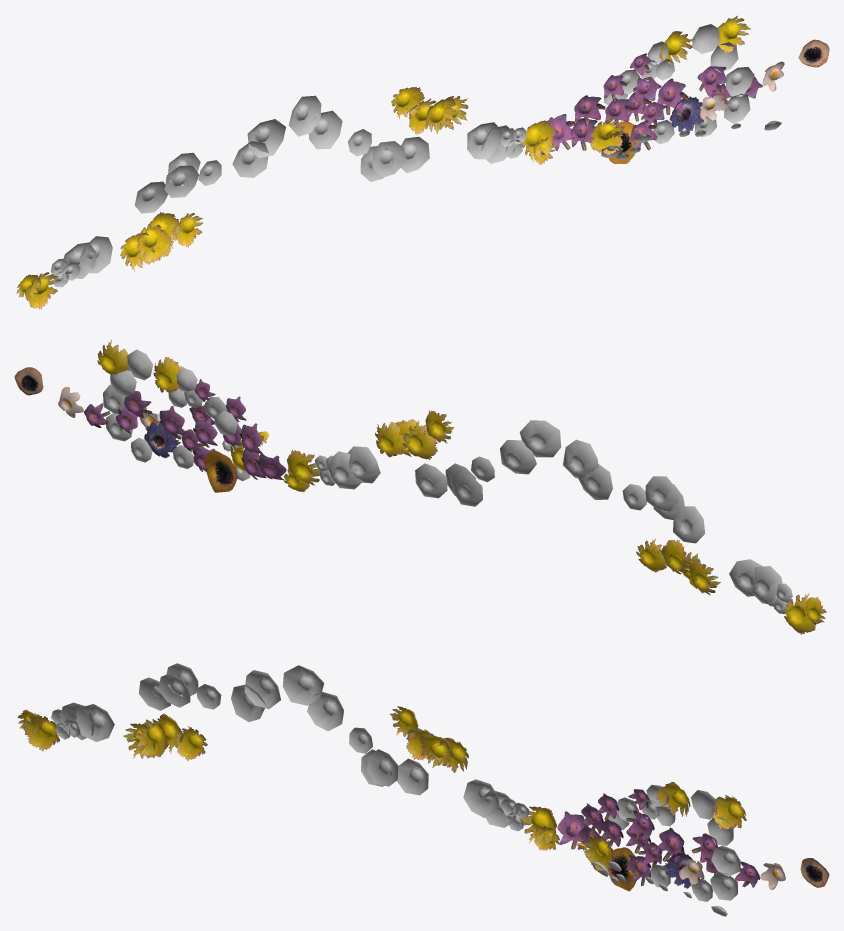
Rendered from Front_Flower3.fbx.
3 views of the same model, one above another, from view 1: azimuth 30°, elevation 25°; view 2: azimuth 150°, elevation 25°; view 3: azimuth 330°, elevation 25° (orthographic).
Visible parts, largest first — view 1: Circle.868, Circle.871, Circle.854, Circle.849, Circle.877, Circle.853, Circle.870, Circle.862, Circle.860, Circle.851, Circle.775, Circle.748 (+18 smaller); view 2: Circle.854, Circle.777, Circle.871, Circle.859, Circle.870, Circle.861, Circle.876, Circle.857, Circle.868, Circle.865, Circle.874, Circle.853 (+14 smaller); view 3: Circle.854, Circle.870, Circle.851, Circle.871, Circle.868, Circle.877, Circle.876, Circle.845, Circle.849, Circle.746, Circle.862, Circle.853 (+26 smaller).
Part boxes in pixels (left/top/right/bottom): Circle.868: left=467, top=122, right=502, bottom=159; Circle.871: left=247, top=119, right=285, bottom=157; Circle.854: left=288, top=95, right=321, bottom=136; Circle.849: left=136, top=224, right=173, bottom=262; Circle.877: left=372, top=141, right=405, bottom=177; Circle.853: left=232, top=141, right=268, bottom=177; Circle.870: left=309, top=110, right=342, bottom=149; Circle.862: left=521, top=120, right=555, bottom=162; Circle.860: left=164, top=165, right=199, bottom=197; Circle.851: left=78, top=236, right=112, bottom=273; Circle.775: left=669, top=96, right=703, bottom=132; Circle.748: left=590, top=118, right=624, bottom=154; Circle.854: left=519, top=420, right=561, bottom=457; Circle.777: left=204, top=450, right=237, bottom=492; Circle.871: left=563, top=439, right=598, bottom=478; Circle.859: left=673, top=506, right=705, bottom=543; Circle.870: left=500, top=440, right=536, bottom=474; Circle.861: left=645, top=476, right=678, bottom=511; Circle.876: left=415, top=463, right=447, bottom=498; Circle.857: left=750, top=566, right=782, bottom=604; Circle.868: left=347, top=446, right=380, bottom=483; Circle.865: left=403, top=420, right=437, bottom=459; Circle.874: left=328, top=451, right=362, bottom=489; Circle.853: left=578, top=464, right=612, bottom=499; Circle.854: left=282, top=665, right=324, bottom=705; Circle.870: left=307, top=692, right=343, bottom=731; Circle.851: left=76, top=704, right=114, bottom=741; Circle.871: left=244, top=670, right=280, bottom=709; Circle.868: left=463, top=779, right=498, bottom=817; Circle.877: left=367, top=749, right=398, bottom=786; Circle.876: left=397, top=758, right=428, bottom=795; Circle.845: left=22, top=713, right=61, bottom=751; Circle.849: left=132, top=719, right=167, bottom=758; Circle.746: left=712, top=795, right=746, bottom=829; Circle.862: left=519, top=806, right=556, bottom=843; Circle.853: left=231, top=684, right=266, bottom=721.
Bounding box in the file's own units: 366 × 64.66 × 31.2.
